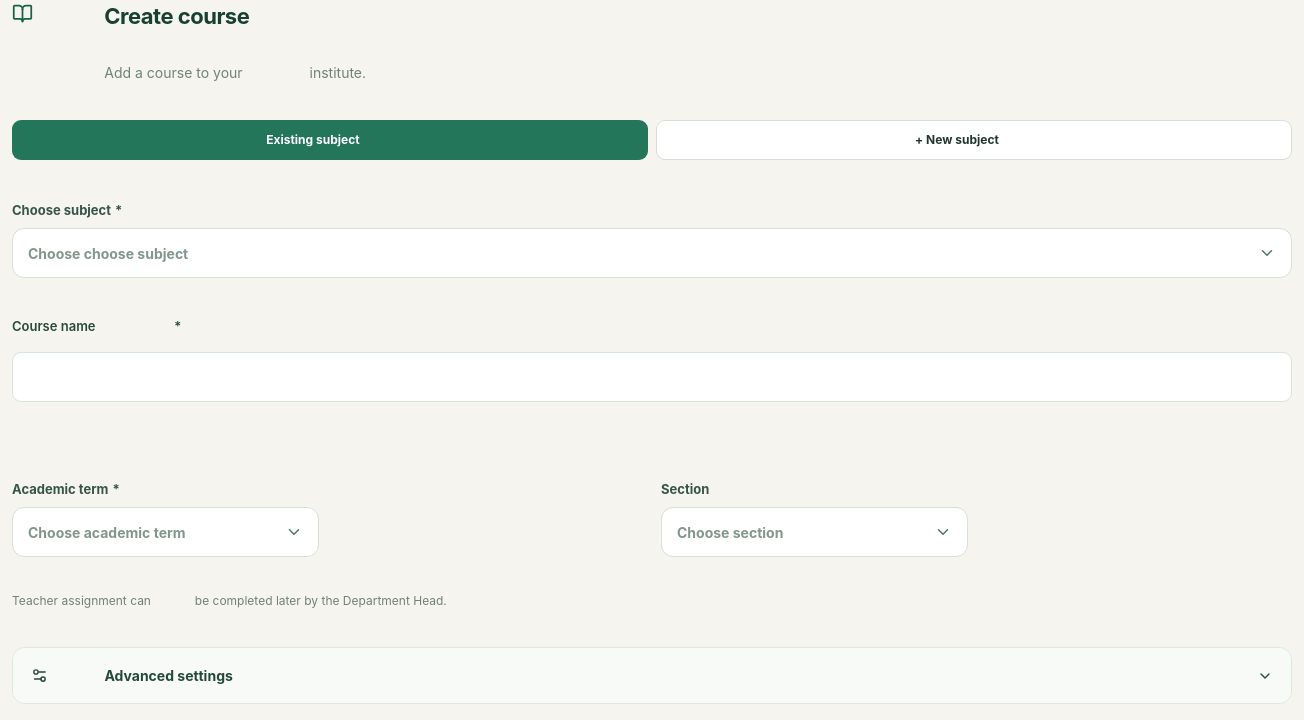
school course form exposes teacher assignments without an administrative override
Click the button "Advanced settings": (145, 676) [13,648,1291,704]
(page scrolled)
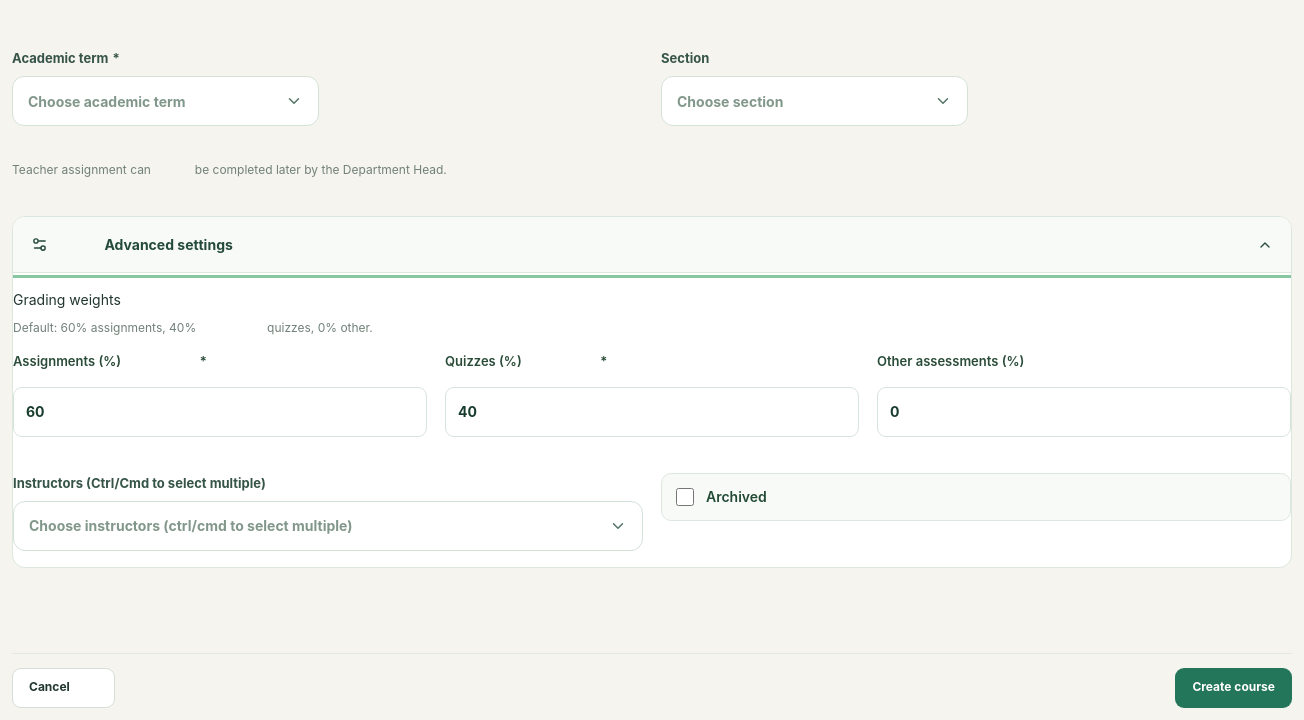
Expected: the button "instructors (ctrl/cmd to select multiple)" is shown, [13,501,643,551]
